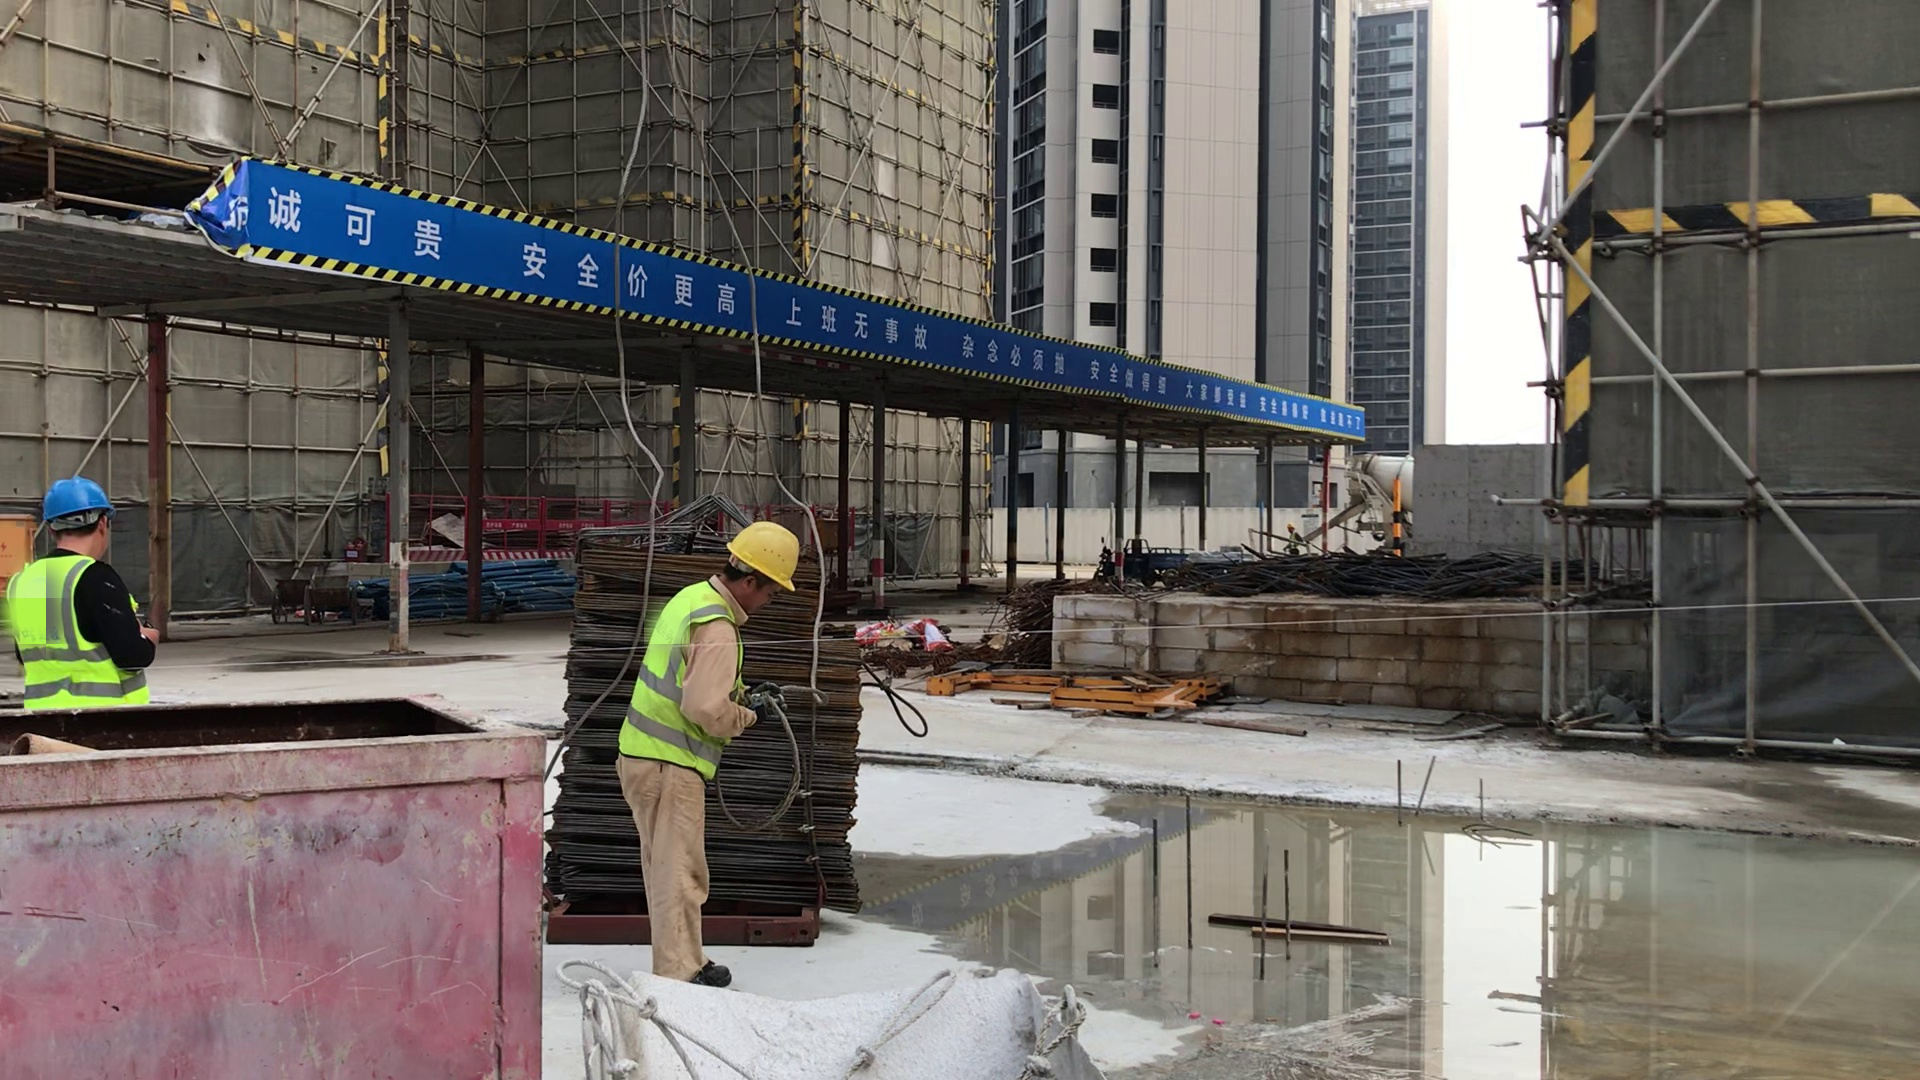handcart: (268, 570, 364, 622)
helmet: (733, 510, 809, 604), (38, 478, 139, 534)
person: (626, 502, 808, 984), (15, 465, 147, 714)
slogan: (275, 167, 1085, 400)
vest: (14, 552, 156, 716), (633, 587, 746, 777)
